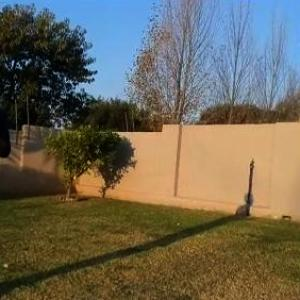follow: (0, 45, 16, 299)
